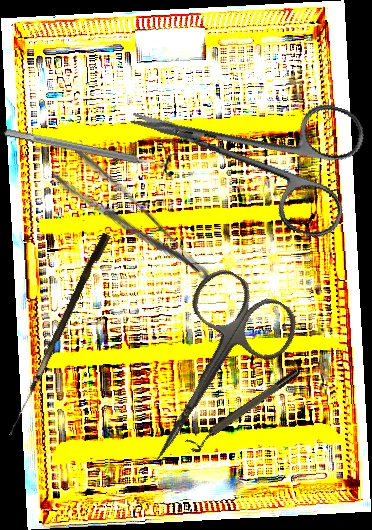Dressing Forceps: (48, 144, 216, 307)
Fixation Ring: (2, 118, 178, 179), (185, 367, 304, 455)
Hook Surgical: (8, 230, 111, 441)
Iris Scissors: (112, 50, 372, 243), (108, 260, 308, 489)
